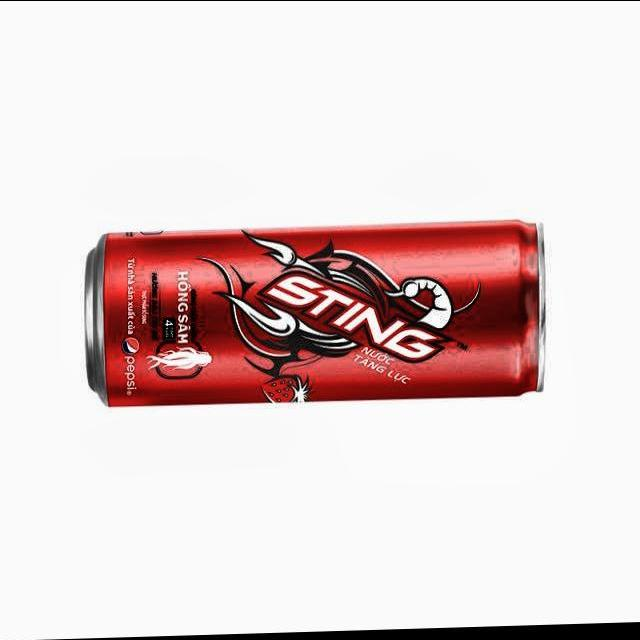Aluminum Can: (76, 213, 554, 421)
